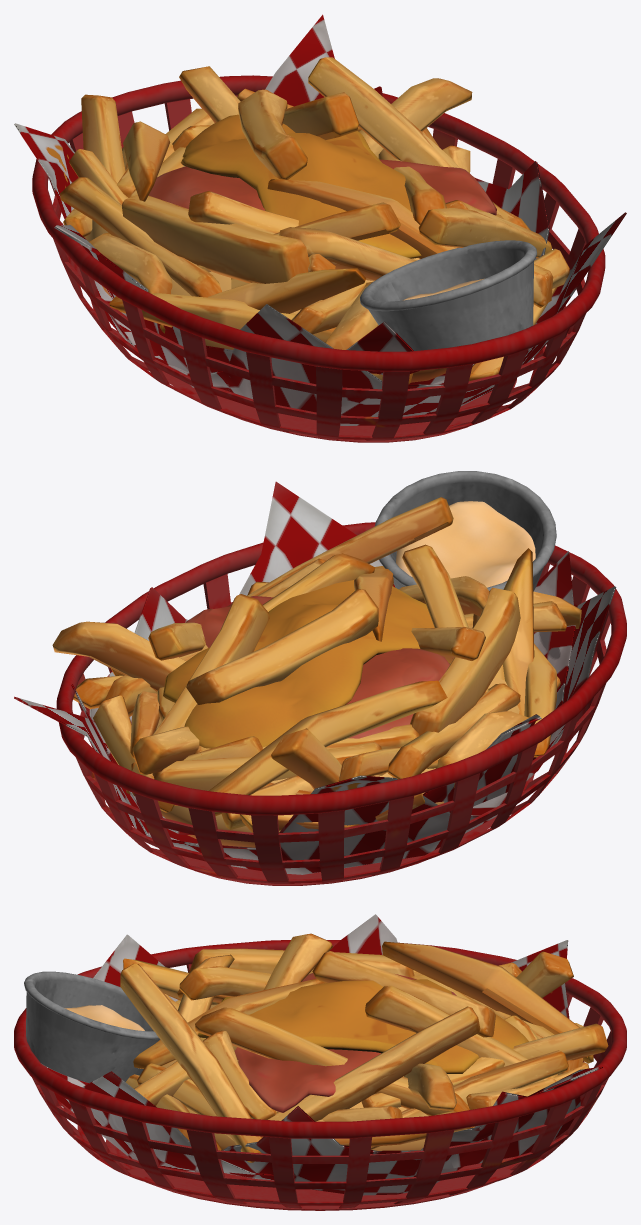
Rendered from fries.glb.
3 renders of one model, top to bottom at view 1: azimuth 30°, elevation 25°; view 2: azimuth 150°, elevation 25°; view 3: azimuth 270°, elevation 25°, orthographic. The views are drawn at different scales.
Visible parts, largest first — view 1: Object_3; view 2: Object_3; view 3: Object_3.
Boxes of the visible parts, x1,y1,x2,y2 form: Object_3: [14, 14, 626, 442]; Object_3: [14, 471, 626, 885]; Object_3: [14, 914, 626, 1210].
Size of the model in its own units: 2.73 by 1.24 by 3.67.
Materials: 1 (1 with a texture image).
